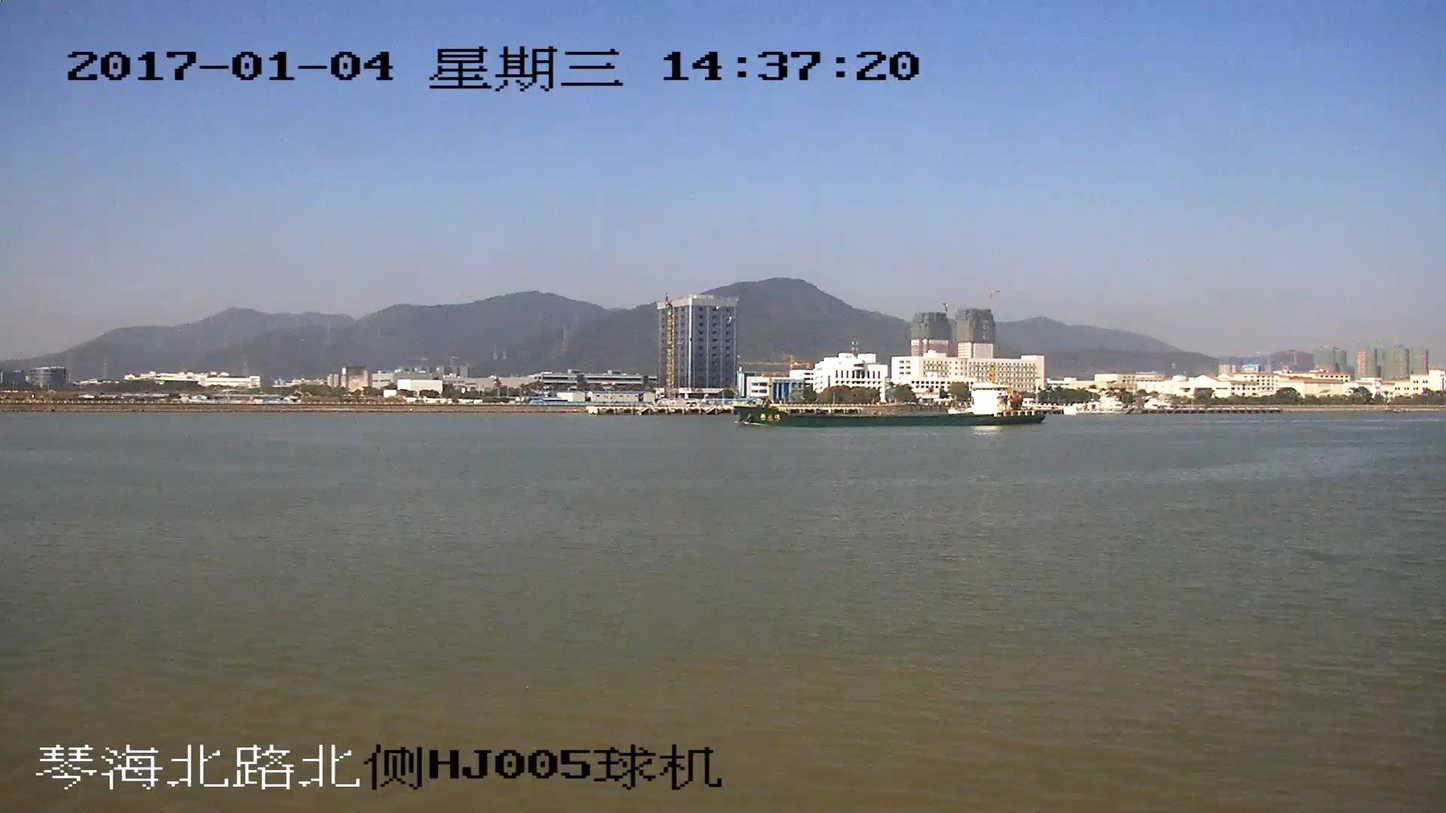general cargo ship: (737, 378, 1045, 426)
